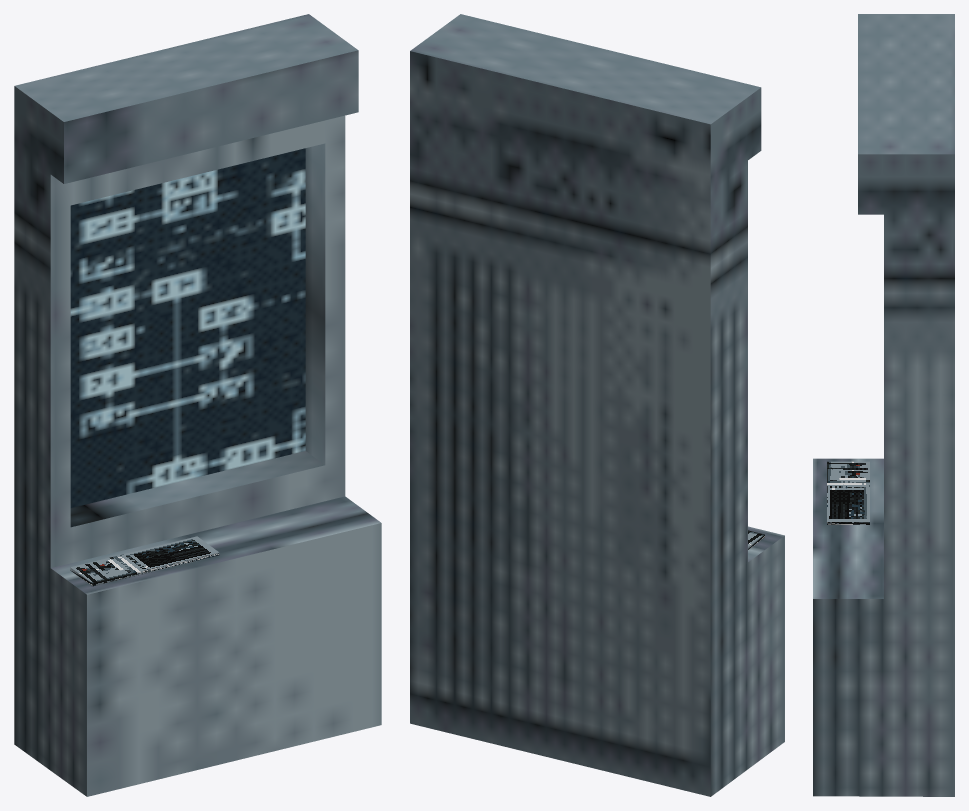
File: Screenwall.fbx
The picture shows the model from 3 angles, left to right: view 1: azimuth 30°, elevation 25°; view 2: azimuth 150°, elevation 25°; view 3: azimuth 270°, elevation 25°; orthographic projection. The views are drawn at different scales.
Visible parts, largest first — view 1: ScreenWall; view 2: ScreenWall; view 3: ScreenWall.
Part boxes in pixels (<box>): ScreenWall: <box>14,14,381,796</box>; ScreenWall: <box>410,14,784,796</box>; ScreenWall: <box>813,14,954,796</box>.
Bounding box in the file's own units: 187 × 80 × 400.
3 materials, 3 textured.
